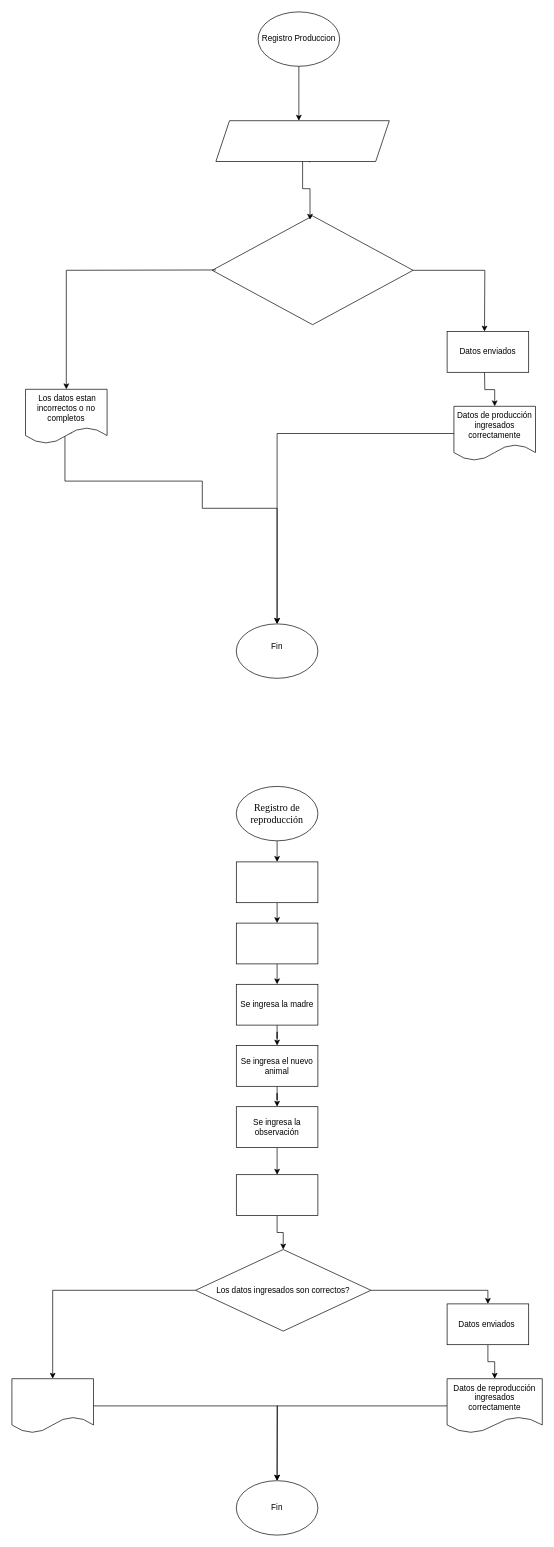
Image size: 554x1547. Some labels were removed from this diagram. The box of each missing label's shape, as (x1, y1, x2, y2) in pixels:
Datos ingresados: date, typeProduction quantity, animalID: (215, 120, 389, 162)
Los datos ingresados son correctos y completos?: (211, 215, 413, 325)
Los datos ingresados son incorrectos: (11, 1378, 94, 1433)
Se ingresa el estado: (236, 1174, 318, 1216)
Se ingresa el padre: (236, 922, 318, 964)
Se ingresa la fecha: (236, 861, 318, 903)
